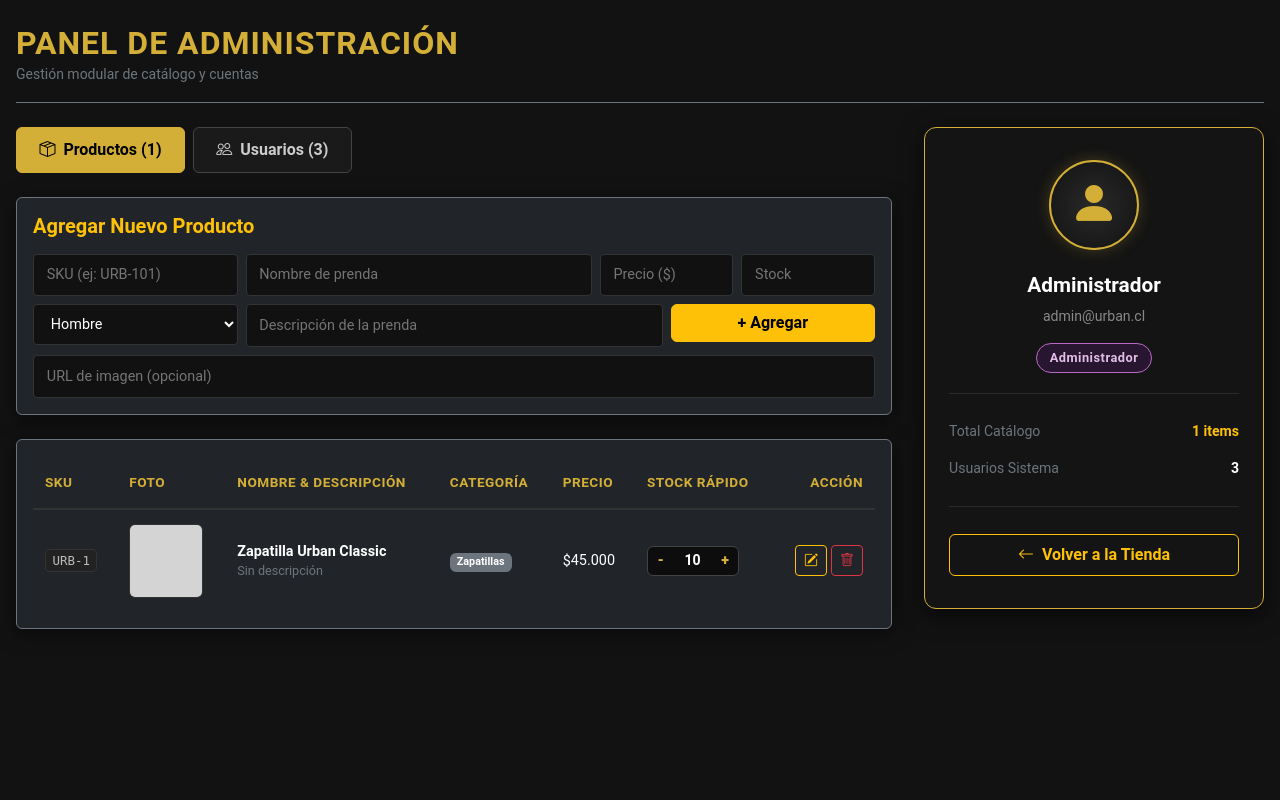
Scenario: Componente AdminPanel › Permite agregar un nuevo producto llenando los campos numéricos requeridos
This screenshot has width=1280, height=800.
In the field with placeholder "SKU (ej: URB-101)": (135, 275) [33,254,238,296], type "URB-200"
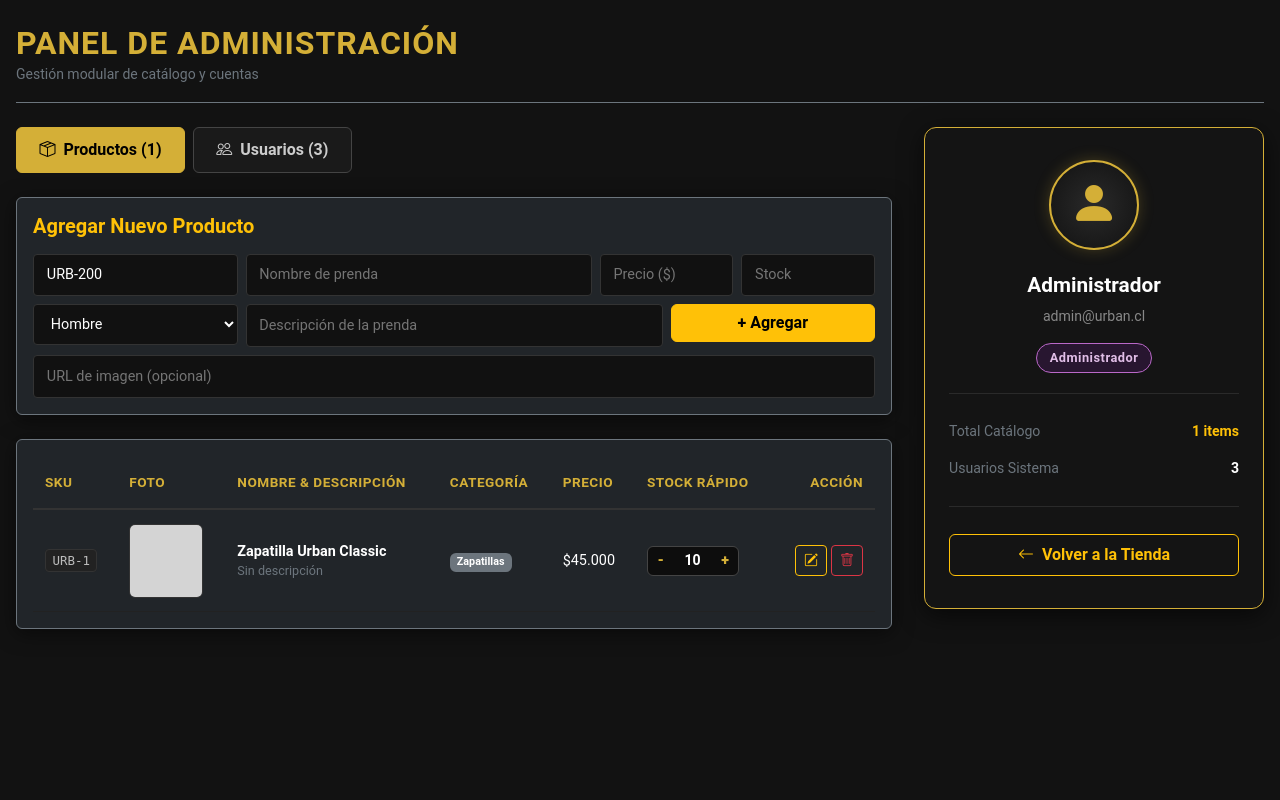
In the field with placeholder "Nombre de prenda": (419, 275) [246,254,592,296], type "Casaca Cuero Vintage"
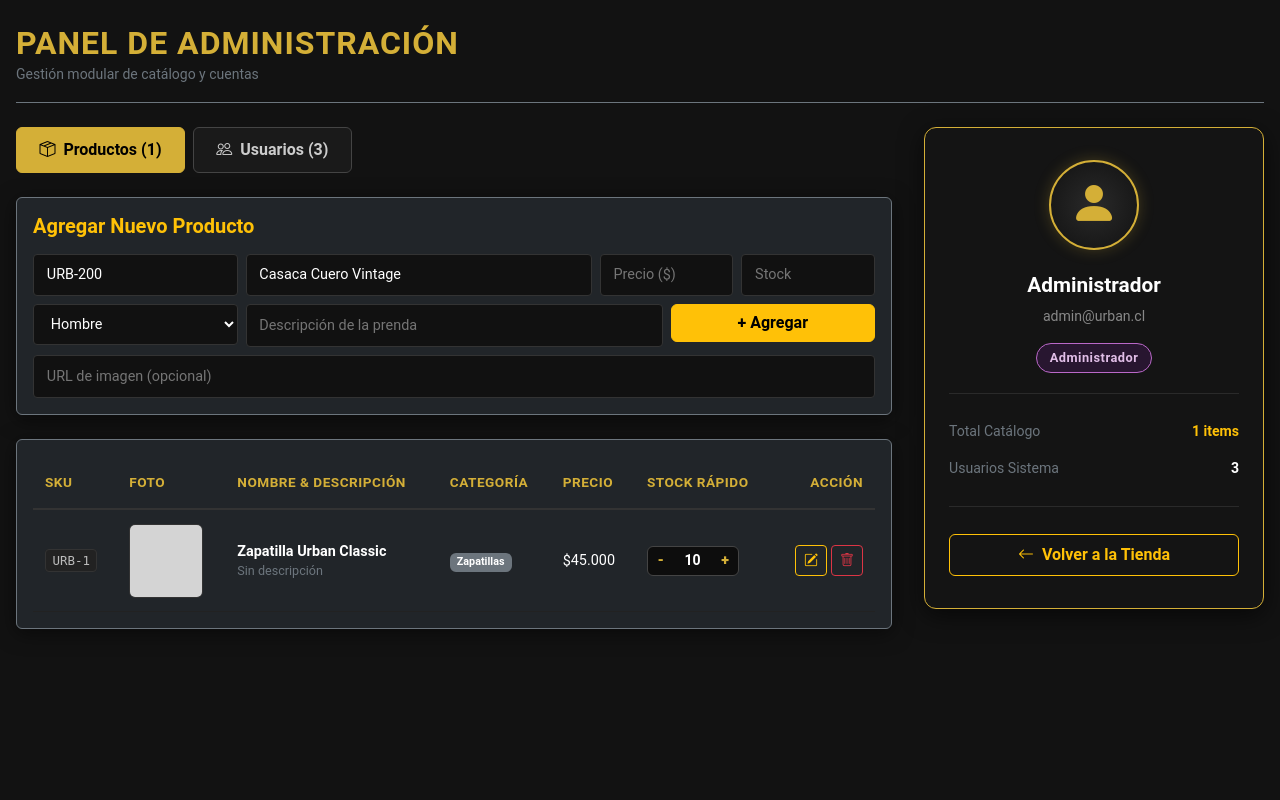
In the number field with placeholder "Precio ($)": (667, 275) [600,254,733,296], type "79990"
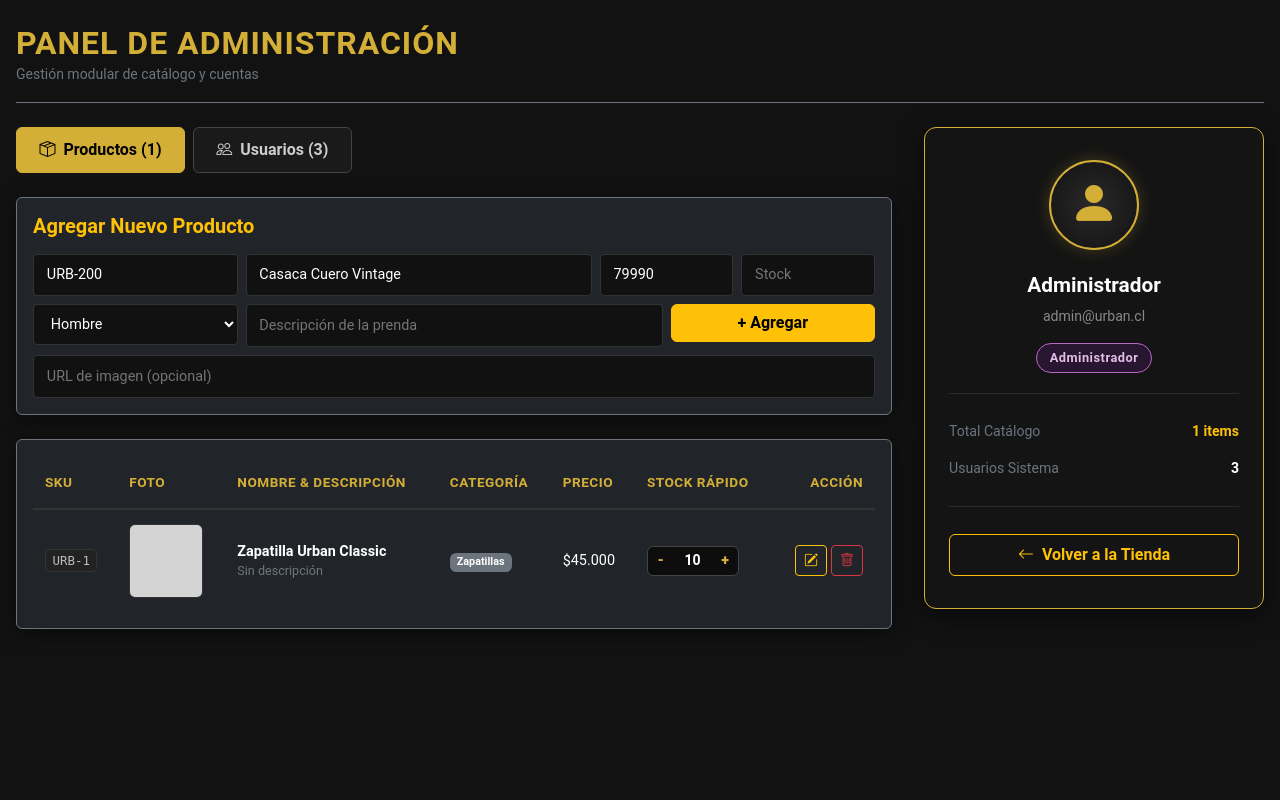
In the number field with placeholder "Stock": (808, 275) [741,254,875,296], type "5"
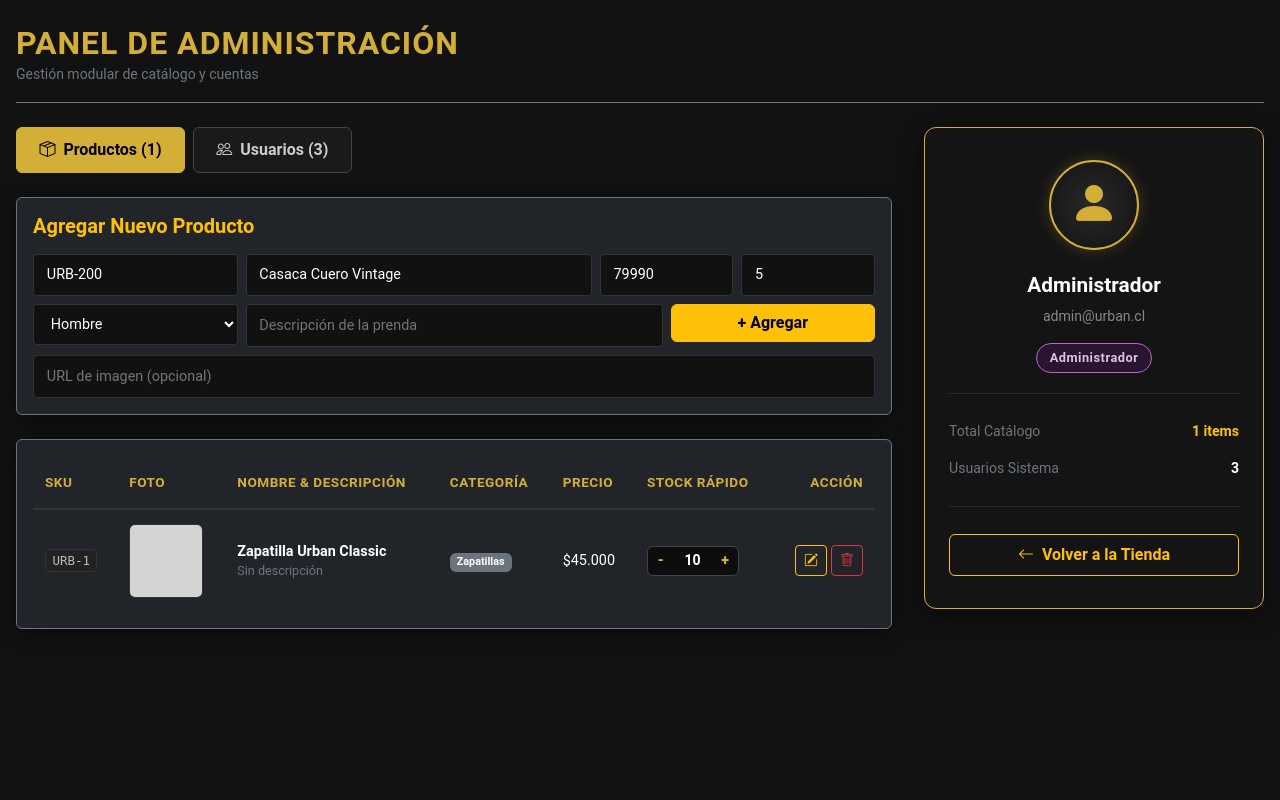
Submit the form, box [29,246,879,398]
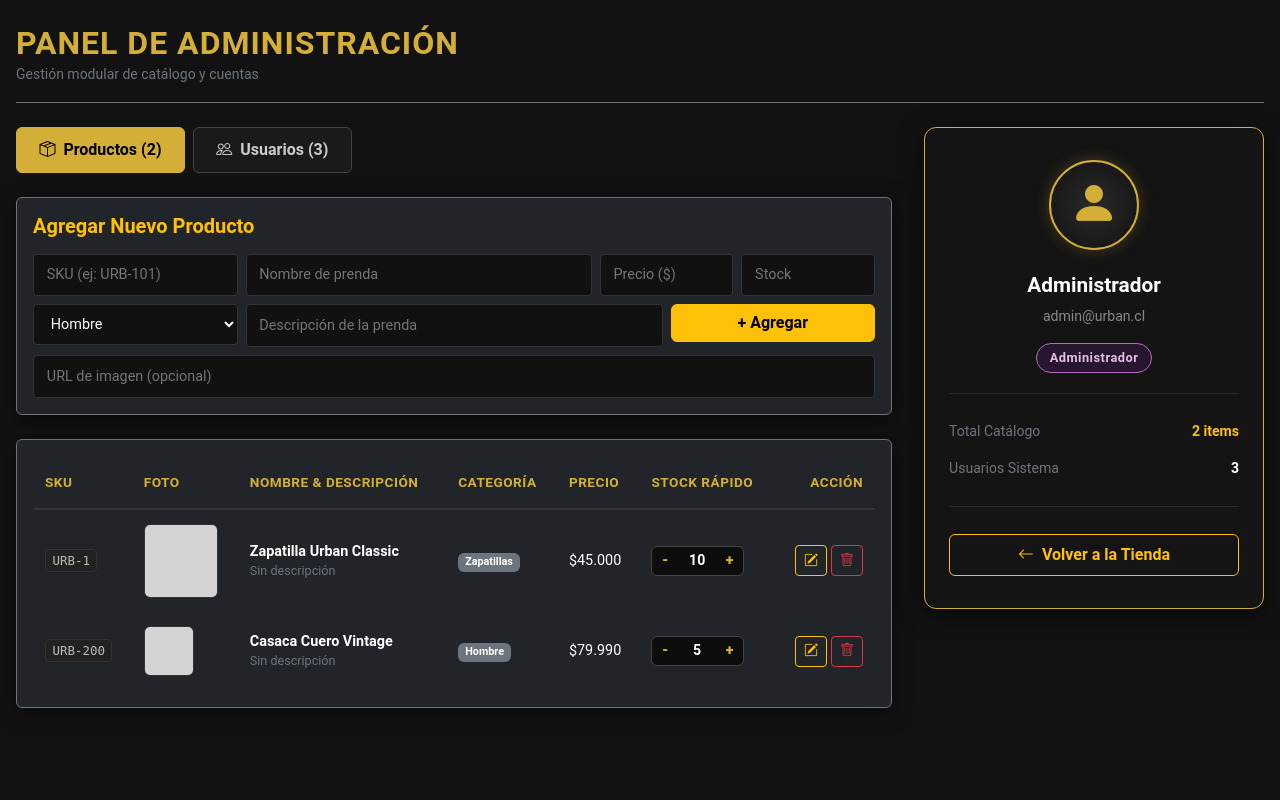
Result: the text "Casaca Cuero Vintage" is shown at [250,633,393,650]
